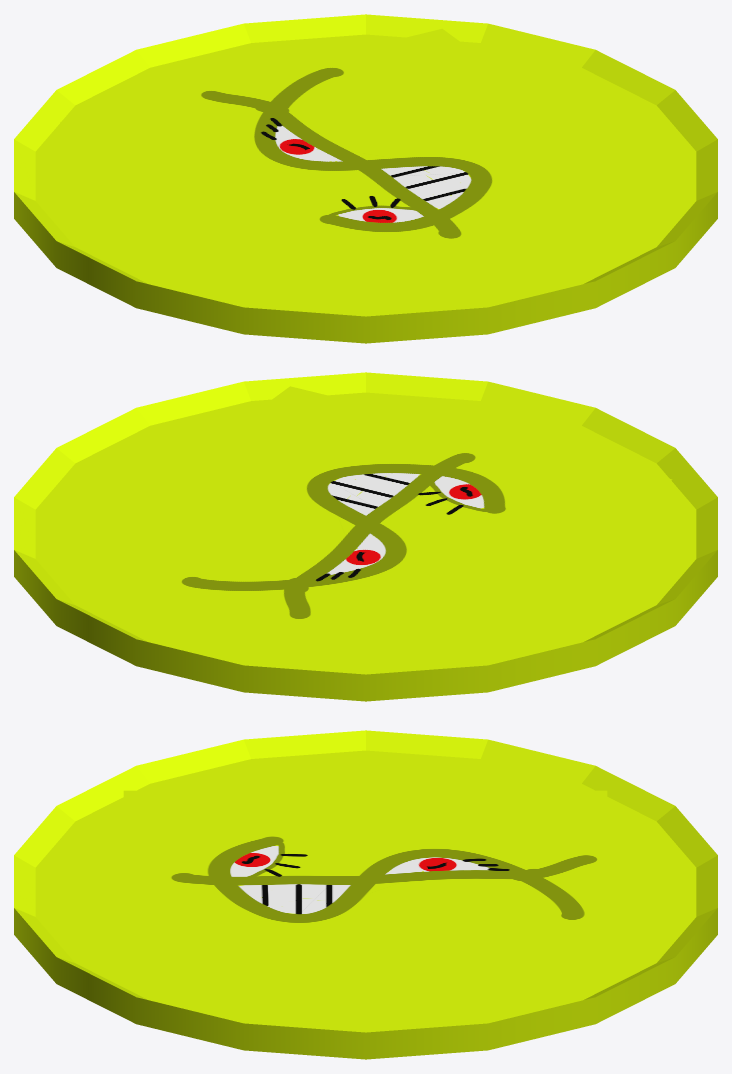
Rendered from EvilCoin.fbx.
3 renders of one model, top to bottom at view 1: azimuth 30°, elevation 25°; view 2: azimuth 150°, elevation 25°; view 3: azimuth 270°, elevation 25°, orthographic.
Parts seen in each view (by area): view 1: Cylinder001, Plane001; view 2: Cylinder001, Plane001; view 3: Cylinder001, Plane001.
Part boxes in pixels (<box>): Cylinder001: <box>14,14,717,343</box>; Plane001: <box>60,28,683,298</box>; Cylinder001: <box>14,372,717,701</box>; Plane001: <box>48,386,672,656</box>; Cylinder001: <box>14,730,717,1059</box>; Plane001: <box>123,790,607,977</box>.
Bounding box in the file's own units: 0.7646 × 0.0323 × 0.753.
